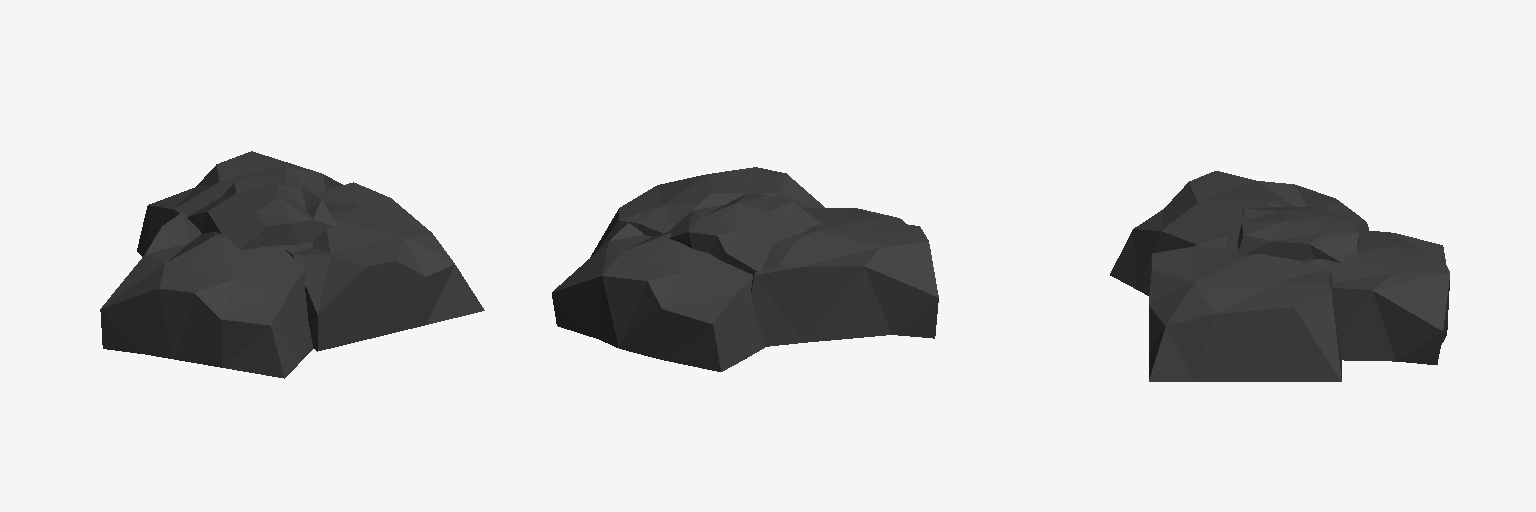
File: rock.obj
3 renders of one model, left to right at view 1: azimuth 30°, elevation 25°; view 2: azimuth 150°, elevation 25°; view 3: azimuth 270°, elevation 25°, orthographic.
Parts seen in each view (by area): view 1: Cube.002, Cube, Cube.004, Cube.003; view 2: Cube.003, Cube.002, Cube.004, Cube; view 3: Cube, Cube.003, Cube.002, Cube.004.
Part boxes in pixels (left/top/right/bottom): Cube.002: left=100, top=212, right=313, bottom=378; Cube: left=286, top=182, right=484, bottom=351; Cube.004: left=187, top=174, right=337, bottom=249; Cube.003: left=137, top=151, right=354, bottom=256; Cube.003: left=552, top=214, right=764, bottom=371; Cube.002: left=751, top=208, right=938, bottom=346; Cube.004: left=667, top=193, right=820, bottom=274; Cube: left=590, top=167, right=824, bottom=257; Cube: left=1149, top=237, right=1341, bottom=381; Cube.003: left=1301, top=230, right=1449, bottom=364; Cube.002: left=1110, top=171, right=1368, bottom=295; Cube.004: left=1237, top=207, right=1358, bottom=262.
Size of the model in its own units: 3.9 by 1.12 by 3.52.